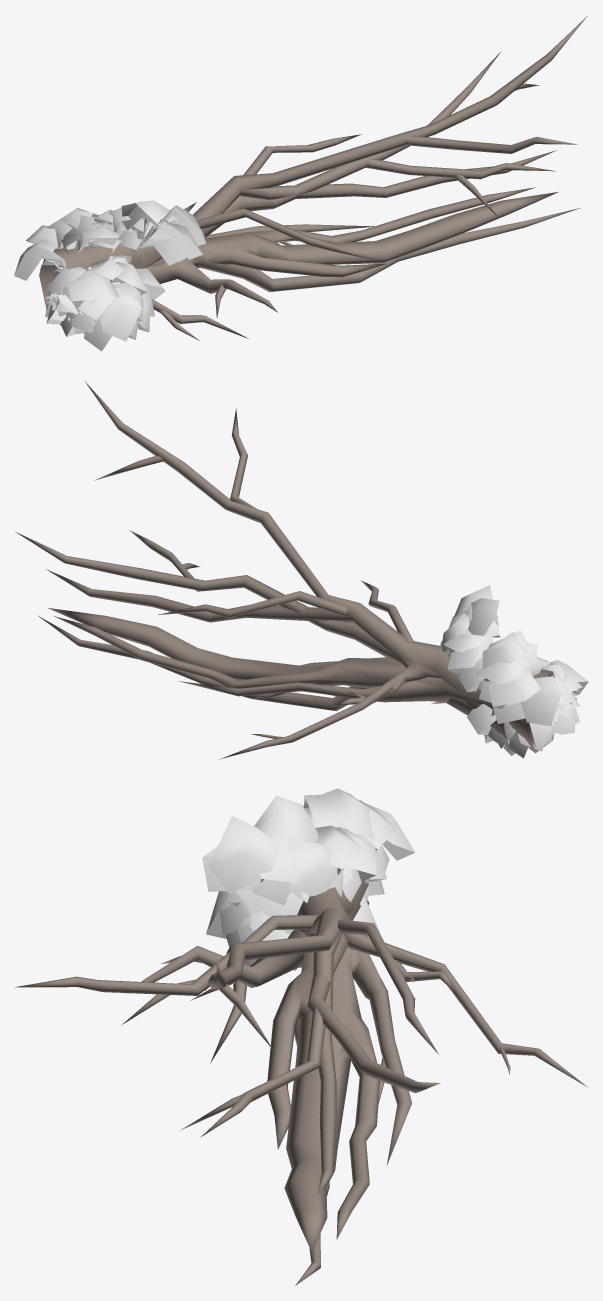
Rendered from trees_0.glb.
3 renders of one model, top to bottom at view 1: azimuth 30°, elevation 25°; view 2: azimuth 150°, elevation 25°; view 3: azimuth 270°, elevation 25°, orthographic. The views are drawn at different scales.
Parts seen in each view (by area): view 1: stickLedge1, stick4, Plane.864, stick3, Plane.1060, stick1, stick2, Plane.1000; view 2: stickLedge1, Plane.864, stick3, stick4, stick2, Plane.1060, stick1; view 3: stickLedge1, Plane.864, stick3, stick4, stick2, stick1, Plane.1060.
Part boxes in pixels (box(x1,y1,x2,y2)): stickLedge1: box(39, 187, 558, 340); stick4: box(193, 16, 587, 233); Plane.864: box(14, 200, 206, 280); stick3: box(41, 51, 555, 304); Plane.1060: box(45, 255, 165, 351); stick1: box(146, 208, 580, 317); stick2: box(135, 150, 556, 268); Plane.1000: box(45, 283, 86, 333); stickLedge1: box(48, 608, 553, 753); Plane.864: box(440, 585, 561, 726); stick3: box(15, 530, 554, 759); stick4: box(85, 381, 407, 658); stick2: box(46, 569, 514, 755); Plane.1060: box(467, 657, 588, 758); stick1: box(37, 615, 506, 732); stickLedge1: box(190, 874, 411, 1251); Plane.864: box(202, 788, 415, 934); stick3: box(121, 912, 586, 1137); stick4: box(15, 908, 438, 1054); stick2: box(297, 887, 455, 1194); stick1: box(125, 920, 352, 1285); Plane.1060: box(206, 891, 379, 970).
Size of the model in its own units: 150 by 64.54 by 95.75.
